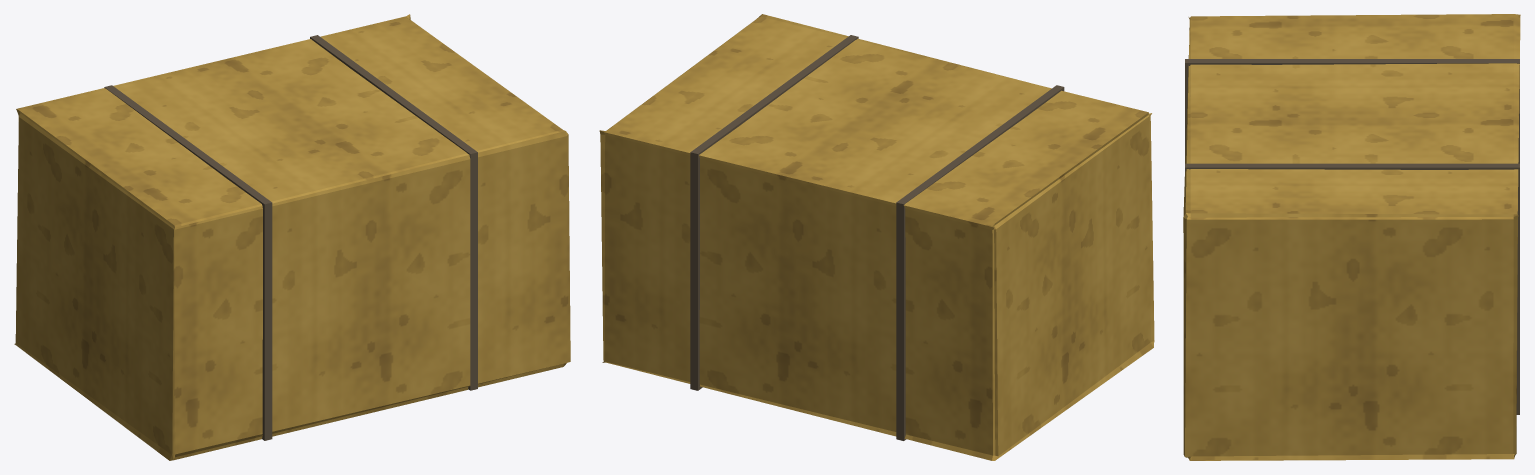
The model's file is golden_hay_bale.glb.
3 renders of one model, left to right at view 1: azimuth 30°, elevation 25°; view 2: azimuth 150°, elevation 25°; view 3: azimuth 270°, elevation 25°, orthographic. The views are drawn at different scales.
Parts seen in each view (by area): view 1: GoldenHayBale; view 2: GoldenHayBale; view 3: GoldenHayBale.
Boxes of the visible parts, x1,y1,x2,y2 form: GoldenHayBale: (14, 14, 570, 460); GoldenHayBale: (599, 14, 1154, 460); GoldenHayBale: (1183, 14, 1520, 460).
Bounding box in the file's own units: 1.3 × 0.7402 × 0.9096.
2 materials, 1 textured.
